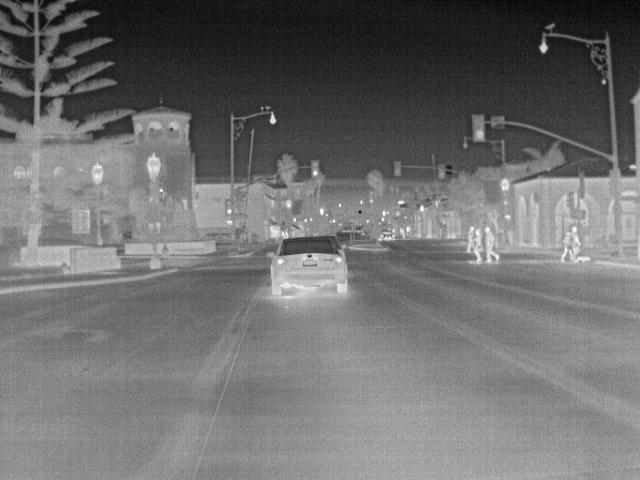car: (267, 235, 351, 298)
dog: (575, 254, 593, 264)
person: (483, 226, 501, 265), (470, 227, 484, 263), (558, 229, 572, 260), (568, 226, 580, 262), (464, 224, 476, 253)
